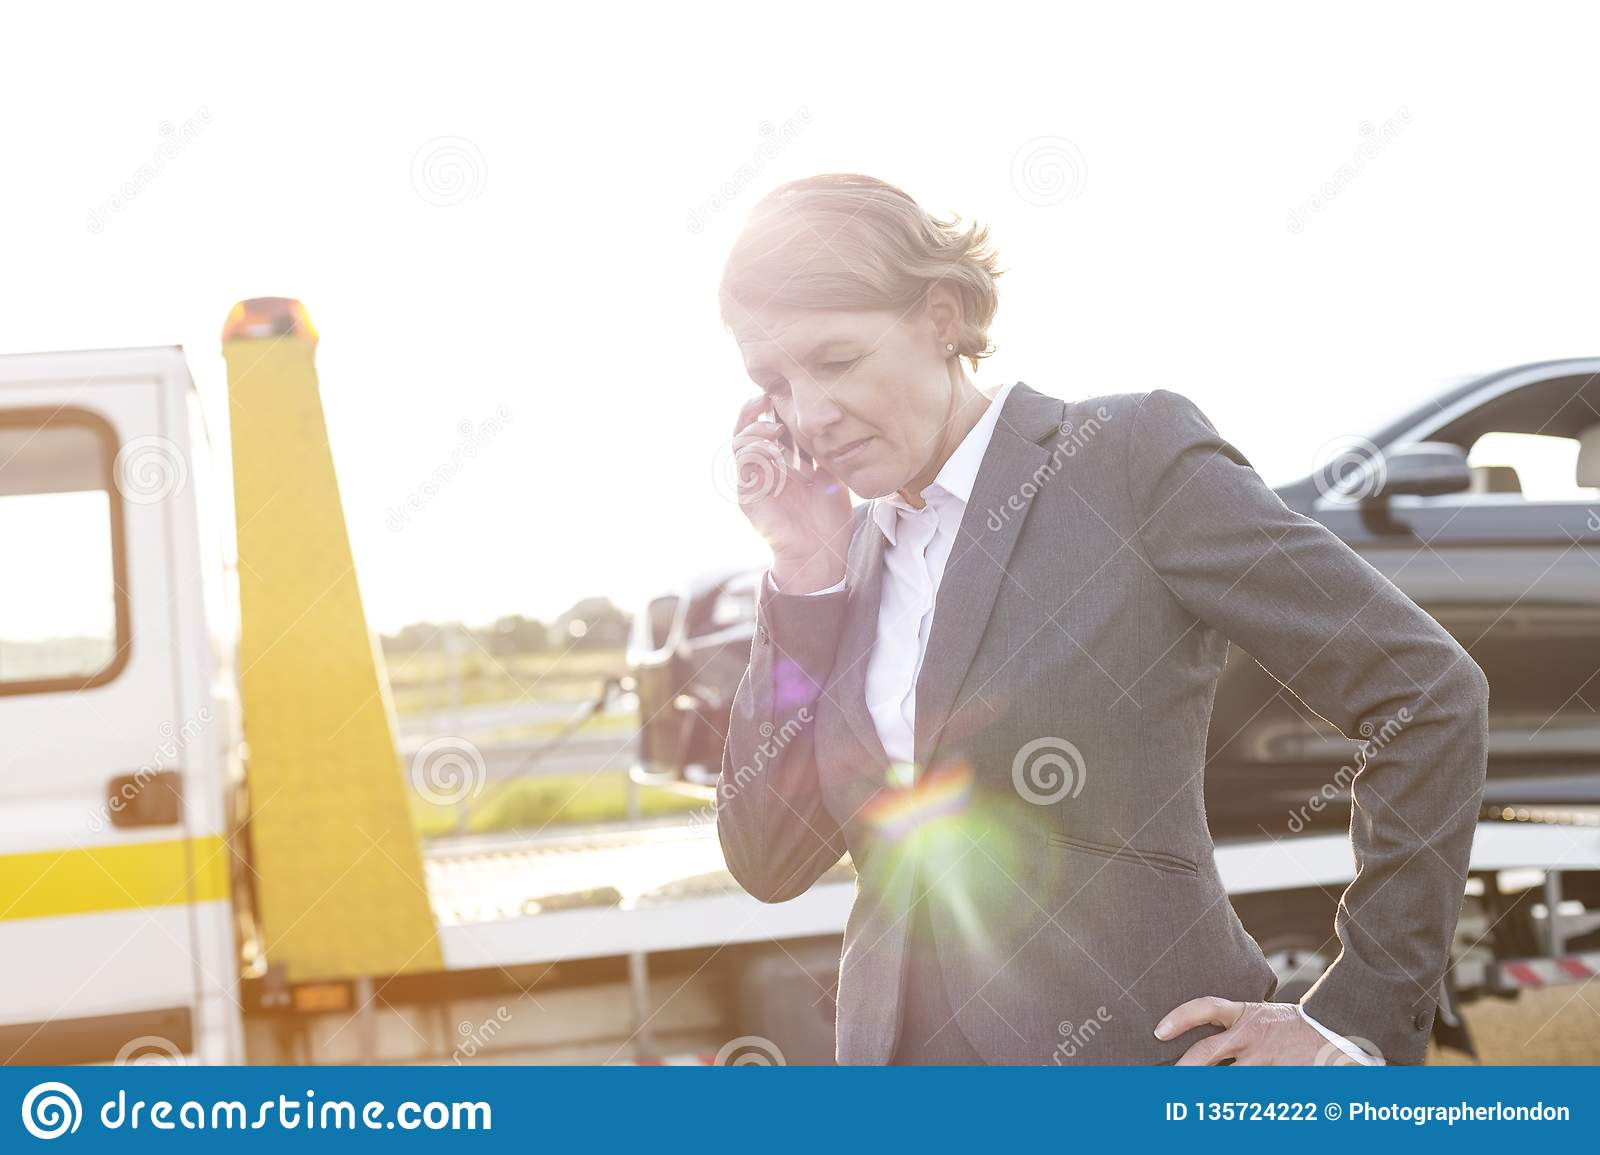phone: (763, 399, 830, 497)
talk: (734, 327, 899, 602)
